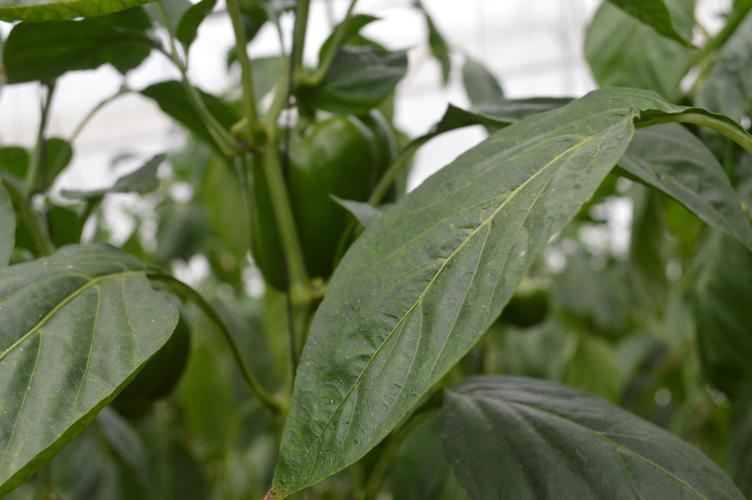BellPepper: (232, 112, 410, 298), (496, 279, 555, 332)
